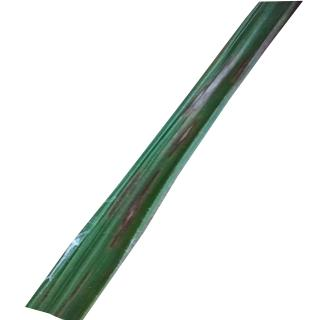Hawar-Daun: (103, 168, 169, 253), (172, 63, 231, 125), (159, 116, 208, 166), (225, 43, 262, 91)
